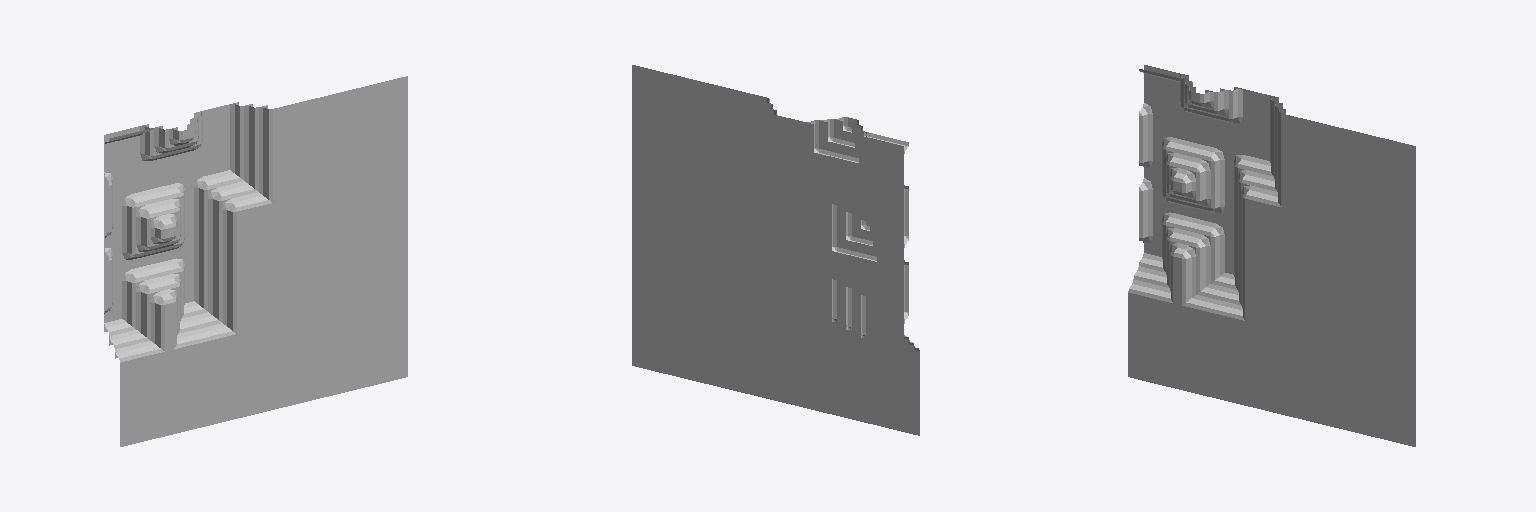
Rendered from Victory-Road-2_07_08.obj.
3 views of the same model, side by side, from view 1: azimuth 30°, elevation 25°; view 2: azimuth 150°, elevation 25°; view 3: azimuth 330°, elevation 25° (orthographic).
Visible parts, largest first — view 1: map; view 2: map; view 3: map.
Boxes of the visible parts, x1=… form: map: x1=104, y1=76, x2=407, y2=446; map: x1=632, y1=65, x2=919, y2=435; map: x1=1128, y1=65, x2=1415, y2=446.
Bounding box in the file's own units: 32 × 32 × 3.